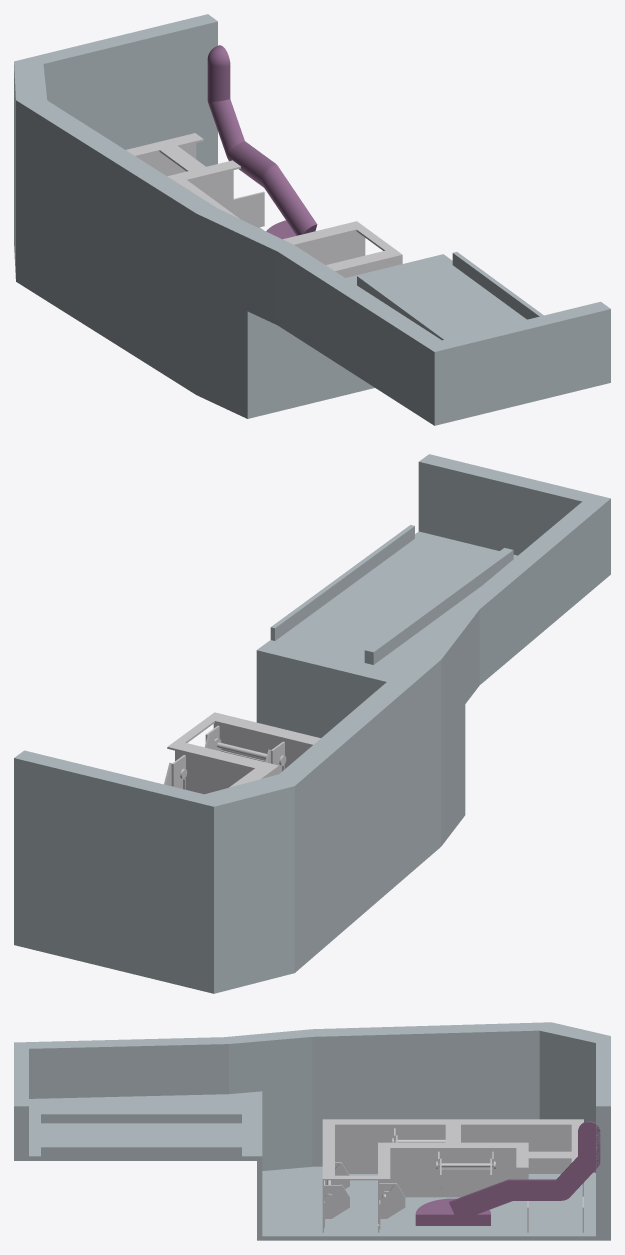
Rendered from nested_pan_section.glb.
The picture shows the model from 3 angles, top to bottom: view 1: azimuth 30°, elevation 25°; view 2: azimuth 150°, elevation 25°; view 3: azimuth 270°, elevation 25°; orthographic projection. The views are drawn at different scales.
Visible parts, largest first — view 1: nested_pan_section (×3); view 2: nested_pan_section (×2); view 3: nested_pan_section (×3).
Part boxes in pixels (<box>): nested_pan_section (×3): <box>14,14,610,425</box>; nested_pan_section (×2): <box>14,454,610,993</box>; nested_pan_section (×3): <box>14,1022,610,1240</box>.
Size of the model in its own units: 0.158 by 0.118 by 0.4747.
